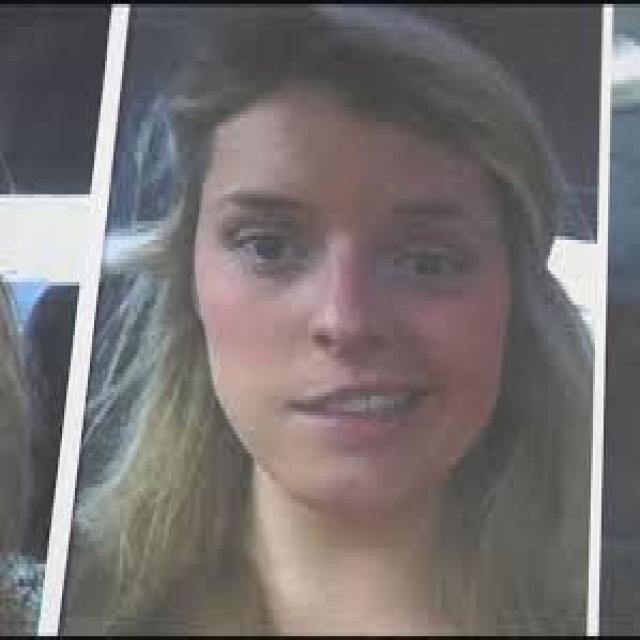stroke_face: (193, 65, 517, 512)
